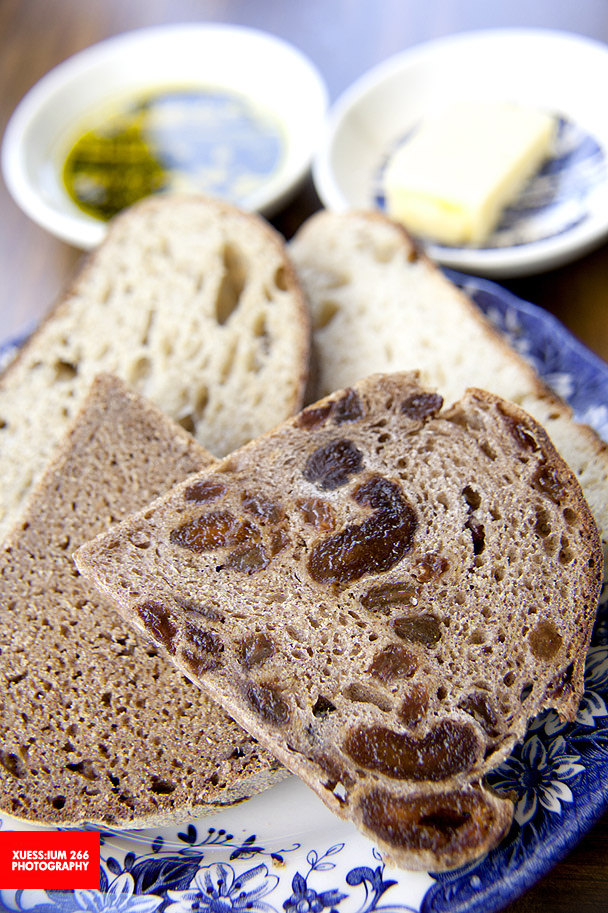slice of bread: (92, 400, 594, 759)
